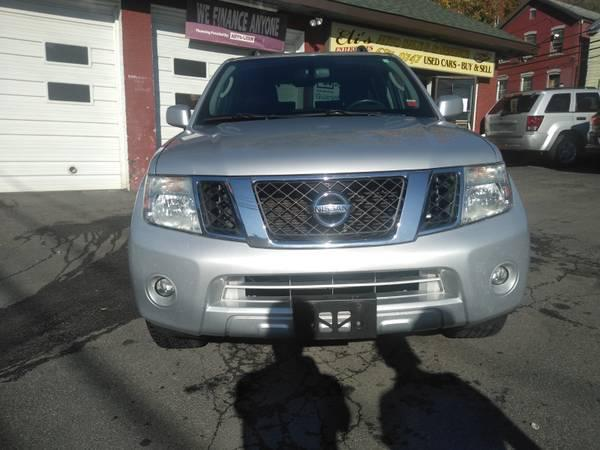Front_Bumper: (131, 197, 530, 339)
Front_Windshield: (189, 50, 438, 125)
Grille: (194, 164, 465, 248)
Hood: (149, 114, 501, 176)
Left_Headlight: (458, 159, 509, 224)
Left_Mirror: (438, 95, 464, 120)
Right_Headlight: (138, 174, 202, 230)
Right_Mirror: (164, 103, 191, 129)
